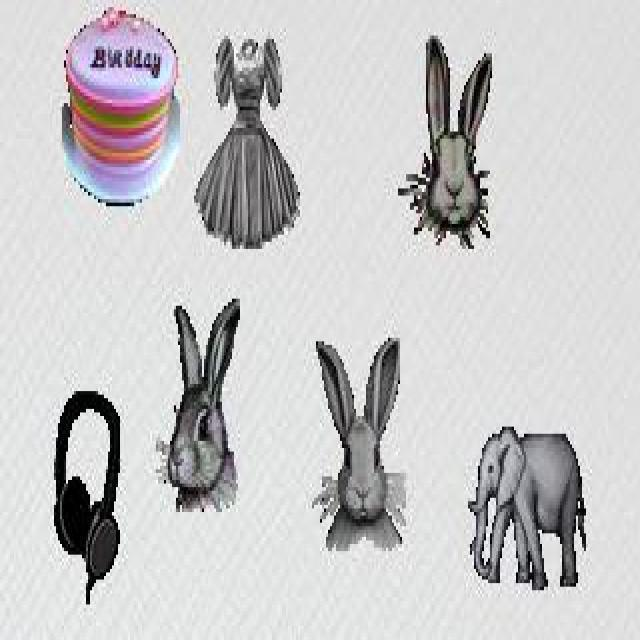Other Objects: (194, 34, 300, 250), (53, 390, 122, 605)
